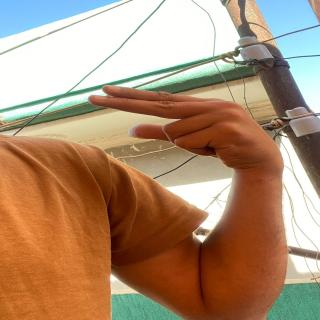DHELL: (84, 73, 302, 171)
